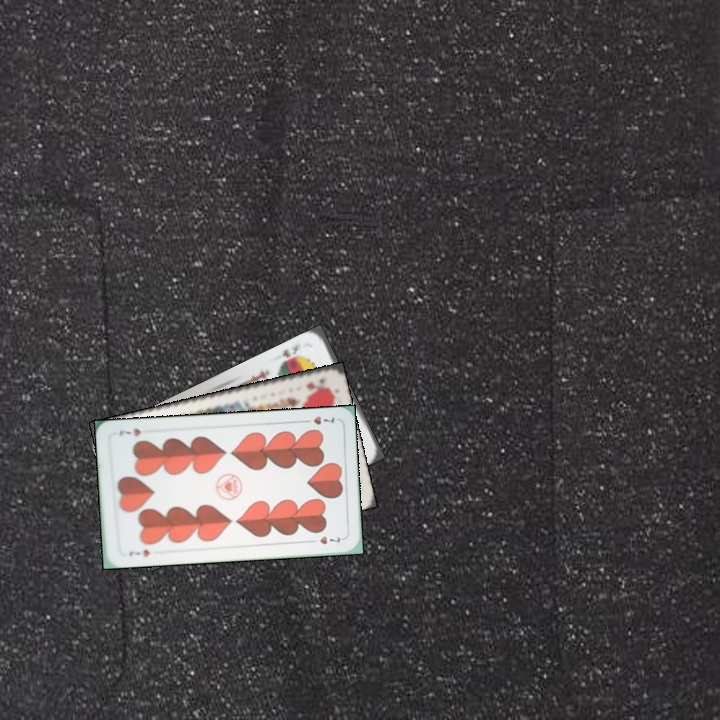H7: (298, 412, 337, 427), (125, 545, 152, 559)
HK: (302, 375, 327, 393)
SK: (277, 340, 306, 368)
